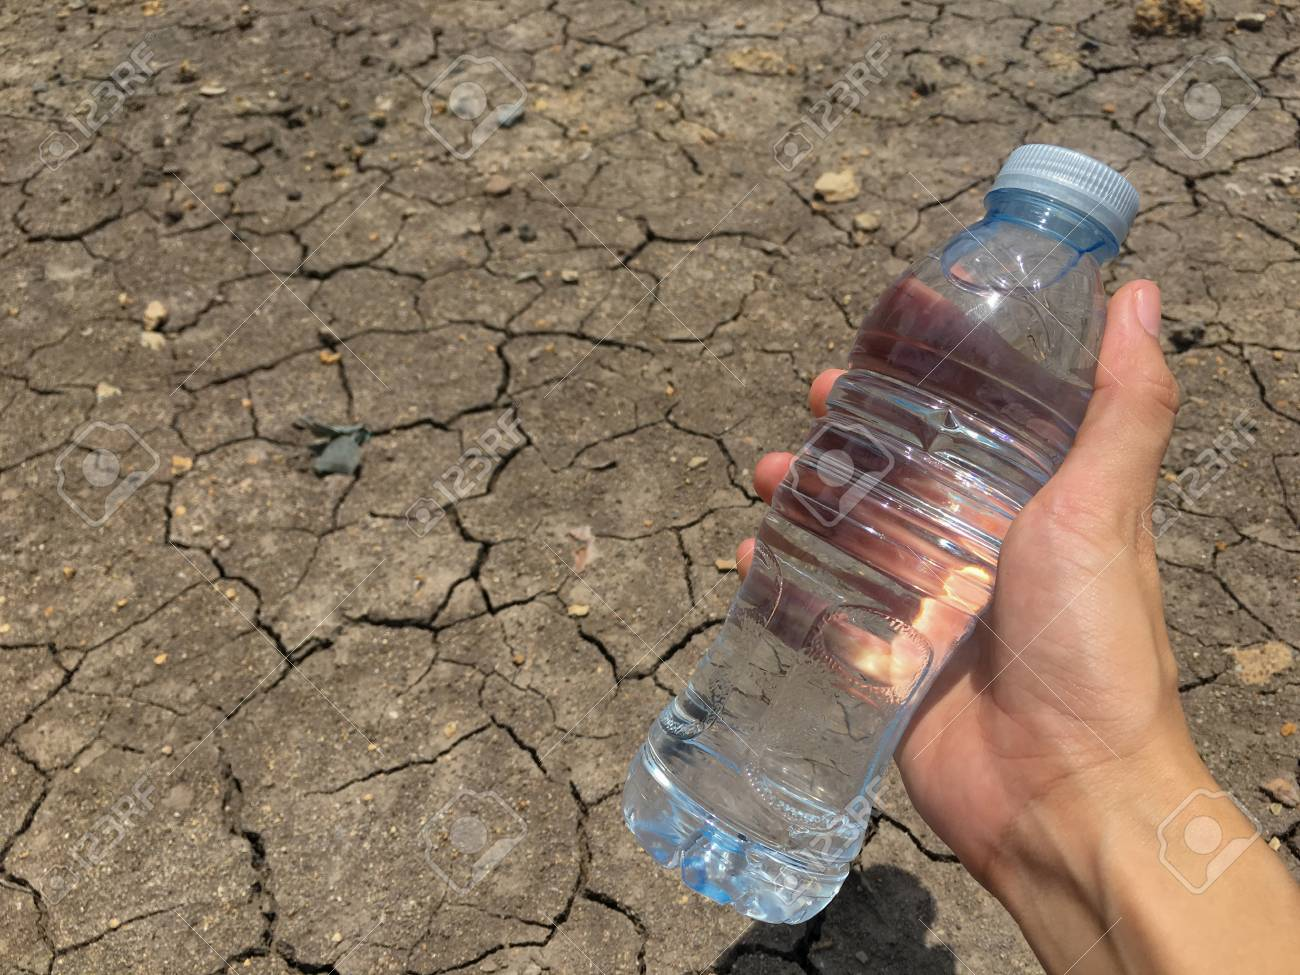plastic_bottle: (615, 132, 1151, 940)
